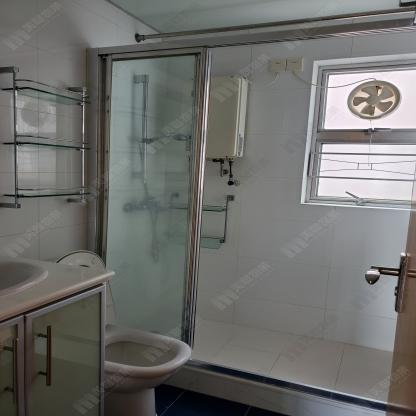Exhaust Fan: (344, 79, 401, 118)
Toilet: (54, 249, 193, 416)
Toilet Sink: (0, 258, 50, 300)
Water Cubicle: (85, 17, 416, 416)
Water Heater: (181, 73, 250, 157)
